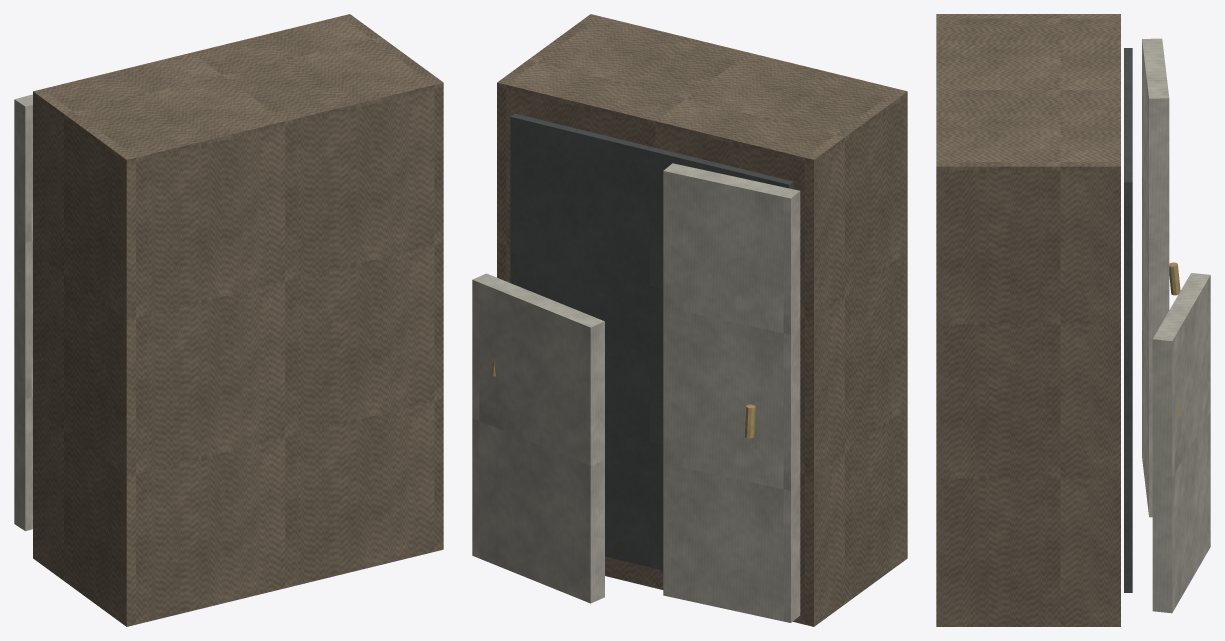
Rendered from damaged_kitchen_cupboard.glb.
The picture shows the model from 3 angles, left to right: view 1: azimuth 30°, elevation 25°; view 2: azimuth 150°, elevation 25°; view 3: azimuth 270°, elevation 25°; orthographic projection.
Parts seen in each view (by area): view 1: InteriorPropGeometry; view 2: InteriorPropGeometry; view 3: InteriorPropGeometry.
Part boxes in pixels (x1,y1,x2,y2): InteriorPropGeometry: (14, 14, 443, 626); InteriorPropGeometry: (472, 14, 907, 626); InteriorPropGeometry: (936, 14, 1210, 626).
Bounding box in the file's own units: 1.25 × 1.76 × 0.9506.
8 materials, 8 textured.
